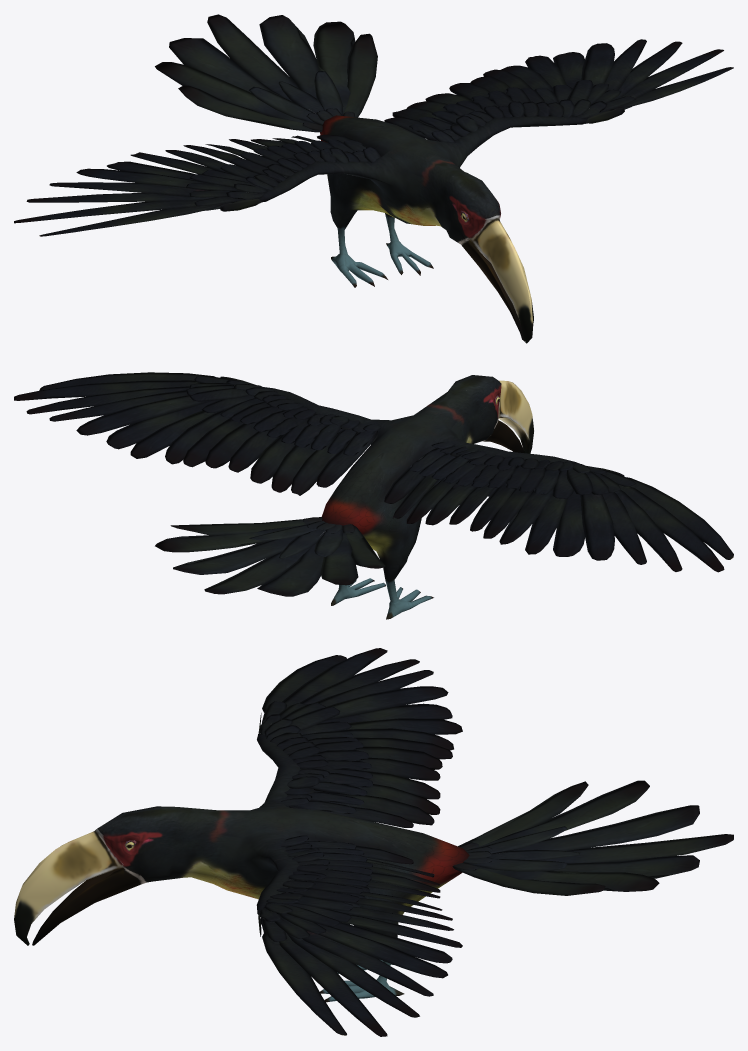
File: bird.glb
The picture shows the model from 3 angles, top to bottom: view 1: azimuth 30°, elevation 25°; view 2: azimuth 150°, elevation 25°; view 3: azimuth 270°, elevation 25°; orthographic projection. The views are drawn at different scales.
Visible parts, largest first — view 1: SK_tucano_bird.001; view 2: SK_tucano_bird.001; view 3: SK_tucano_bird.001.
Boxes of the visible parts, x1,y1,x2,y2 form: SK_tucano_bird.001: (14, 14, 733, 343); SK_tucano_bird.001: (14, 372, 733, 619); SK_tucano_bird.001: (14, 648, 733, 1036).
Bounding box in the file's own units: 1.64 × 0.3357 × 1.28.
1 material, 1 textured.
